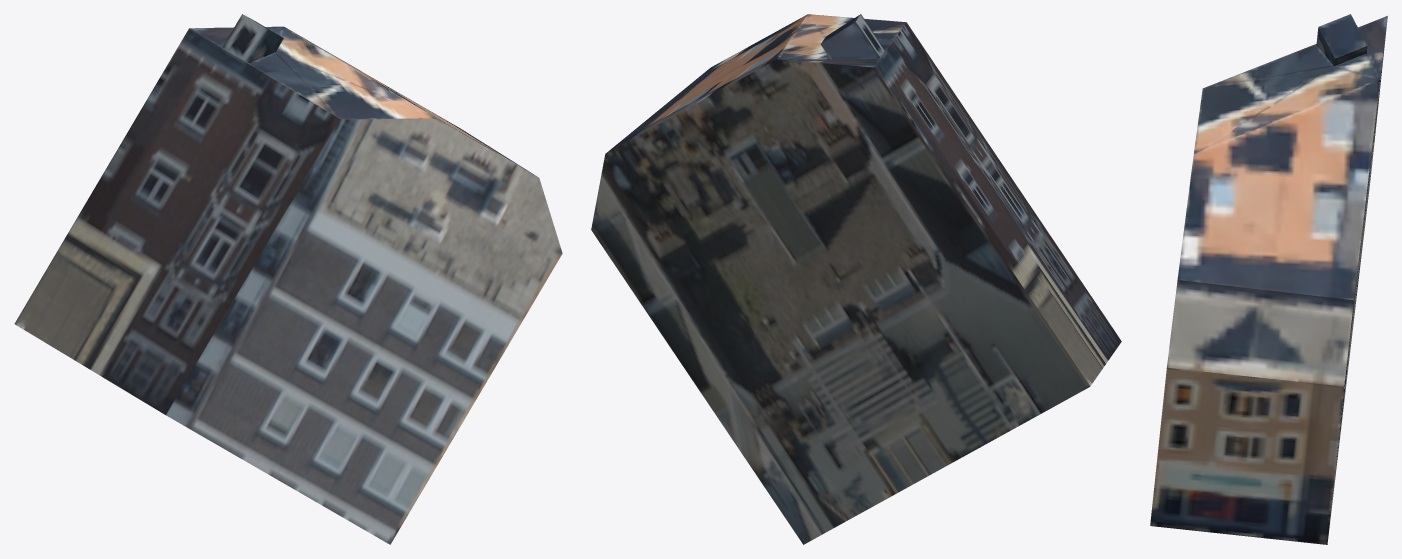
3 renders of one model, left to right at view 1: azimuth 30°, elevation 25°; view 2: azimuth 150°, elevation 25°; view 3: azimuth 270°, elevation 25°, orthographic. The views are drawn at different scales.
Parts seen in each view (by area): view 1: BAG_0599100000671750 (×4); view 2: BAG_0599100000671750 (×5); view 3: BAG_0599100000671750 (×4).
Part boxes in pixels (x1=…): BAG_0599100000671750 (×4): x1=14, y1=14, x2=562, y2=544; BAG_0599100000671750 (×5): x1=591, y1=14, x2=1121, y2=544; BAG_0599100000671750 (×4): x1=1150, y1=14, x2=1387, y2=544.
Size of the model in its own units: 19.94 by 20.34 by 8.73.
5 materials, 5 textured.
